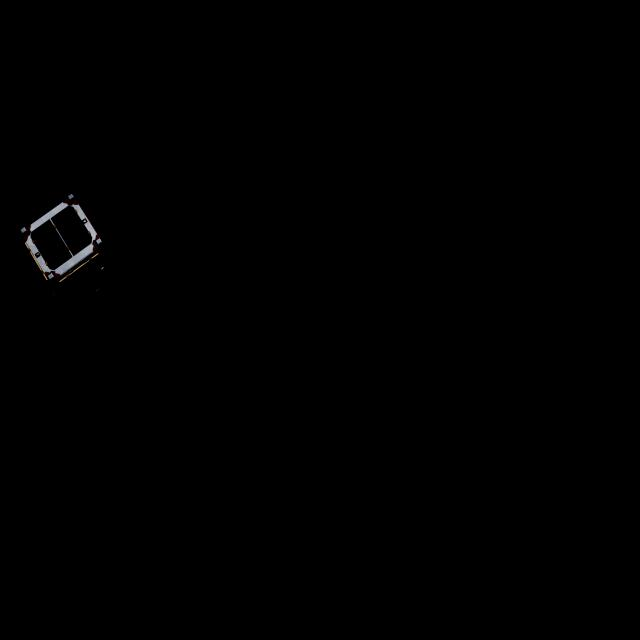medium_debris: (18, 191, 116, 325)
